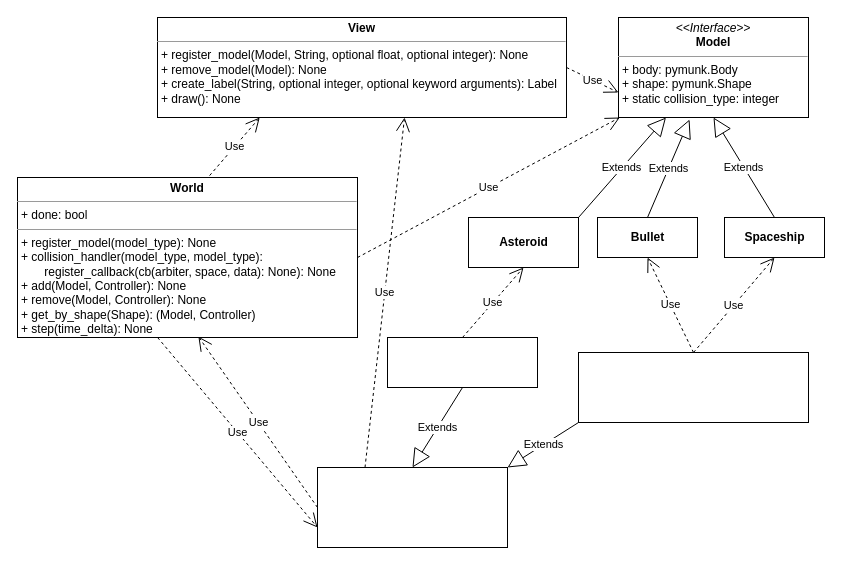
This 842x565 diagram has some shape labels left out. Here are the shapes that lost their labels. From the top down, the centre of each, then its label:
At point 462,362: "AsteroidSpammer".
At point 693,387: "Player + on_key_press(char, bitmask): None + on_key_release(char, bitmask): None".
At point 412,507: "<<Interface>> Controller + step(time_delta): None + delete(Model): None".
